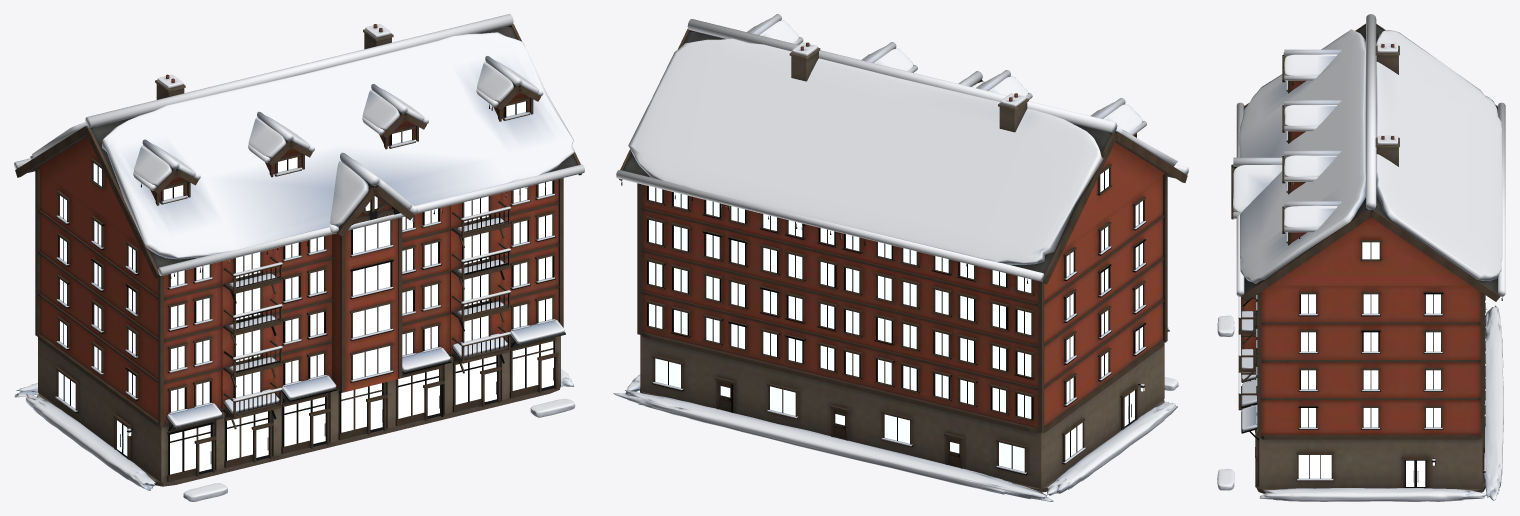
Rendered from village_block_inn.glb.
The picture shows the model from 3 angles, left to right: view 1: azimuth 30°, elevation 25°; view 2: azimuth 150°, elevation 25°; view 3: azimuth 270°, elevation 25°; orthographic projection. The views are drawn at different scales.
Visible parts, largest first — view 1: village_block_inn, village_block_inn_snow, village_block_inn_lit; view 2: village_block_inn, village_block_inn_snow, village_block_inn_lit; view 3: village_block_inn_snow, village_block_inn, village_block_inn_lit.
Part boxes in pixels (<box>): village_block_inn: <box>15,24,581,486</box>; village_block_inn_snow: <box>14,14,584,501</box>; village_block_inn_lit: <box>58,101,553,474</box>; village_block_inn: <box>619,29,1187,492</box>; village_block_inn_snow: <box>613,14,1188,501</box>; village_block_inn_lit: <box>649,168,1142,471</box>; village_block_inn_snow: <box>1217,14,1505,501</box>; village_block_inn: <box>1231,23,1502,493</box>; village_block_inn_lit: <box>1298,242,1440,486</box>.
Bounding box in the file's own units: 32.98 × 24.56 × 20.65.
5 materials, 1 textured.
